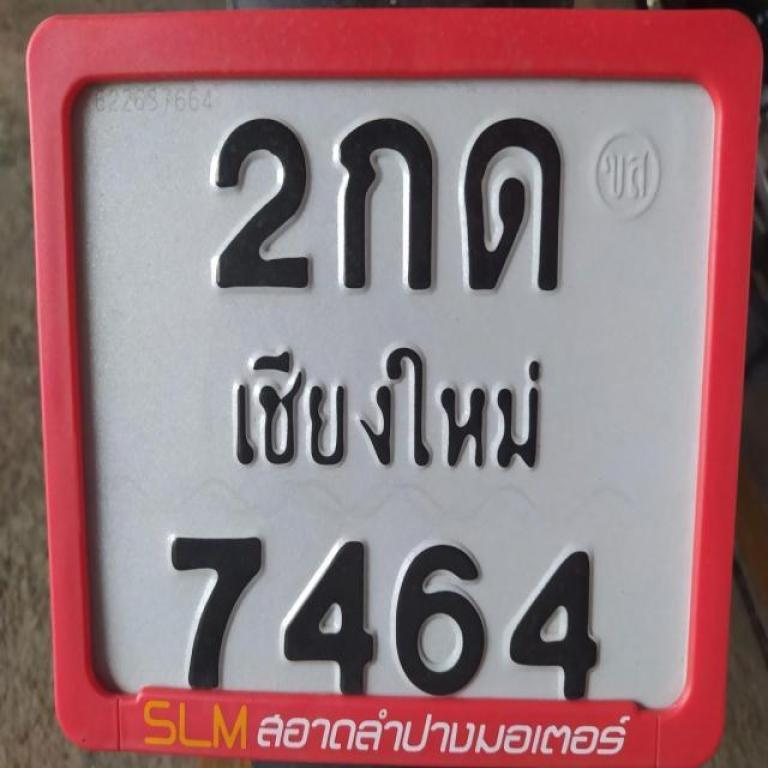license plate: (20, 7, 764, 768)
